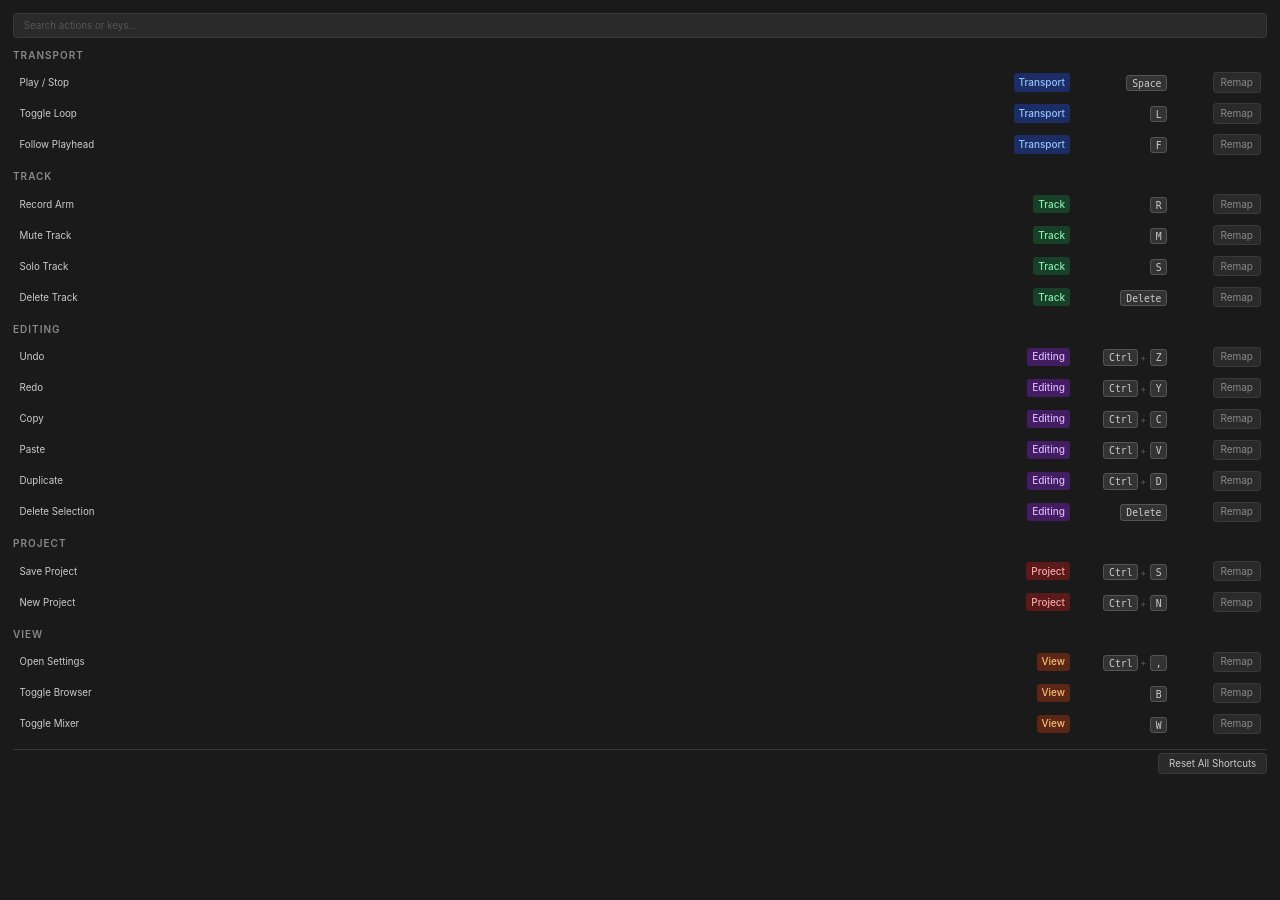
Scenario: ShortcutsSettingsTab › clicking Remap opens KeyCaptureModal
Click the button "Remap" next to "Space" at (1237, 82), box [1213, 72, 1260, 93]
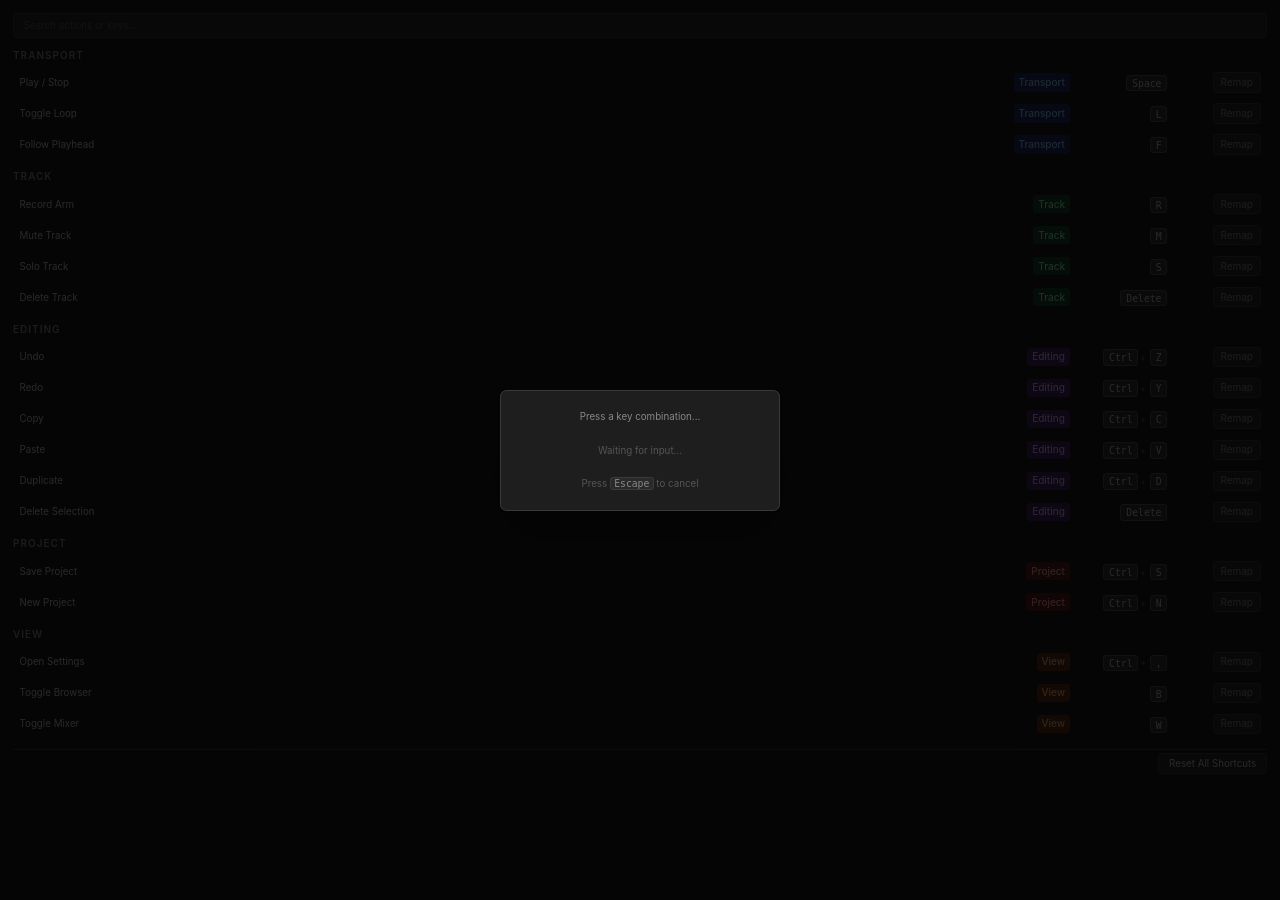
expect the text "Press a key combination..." is shown: met, box [580, 411, 700, 422]
